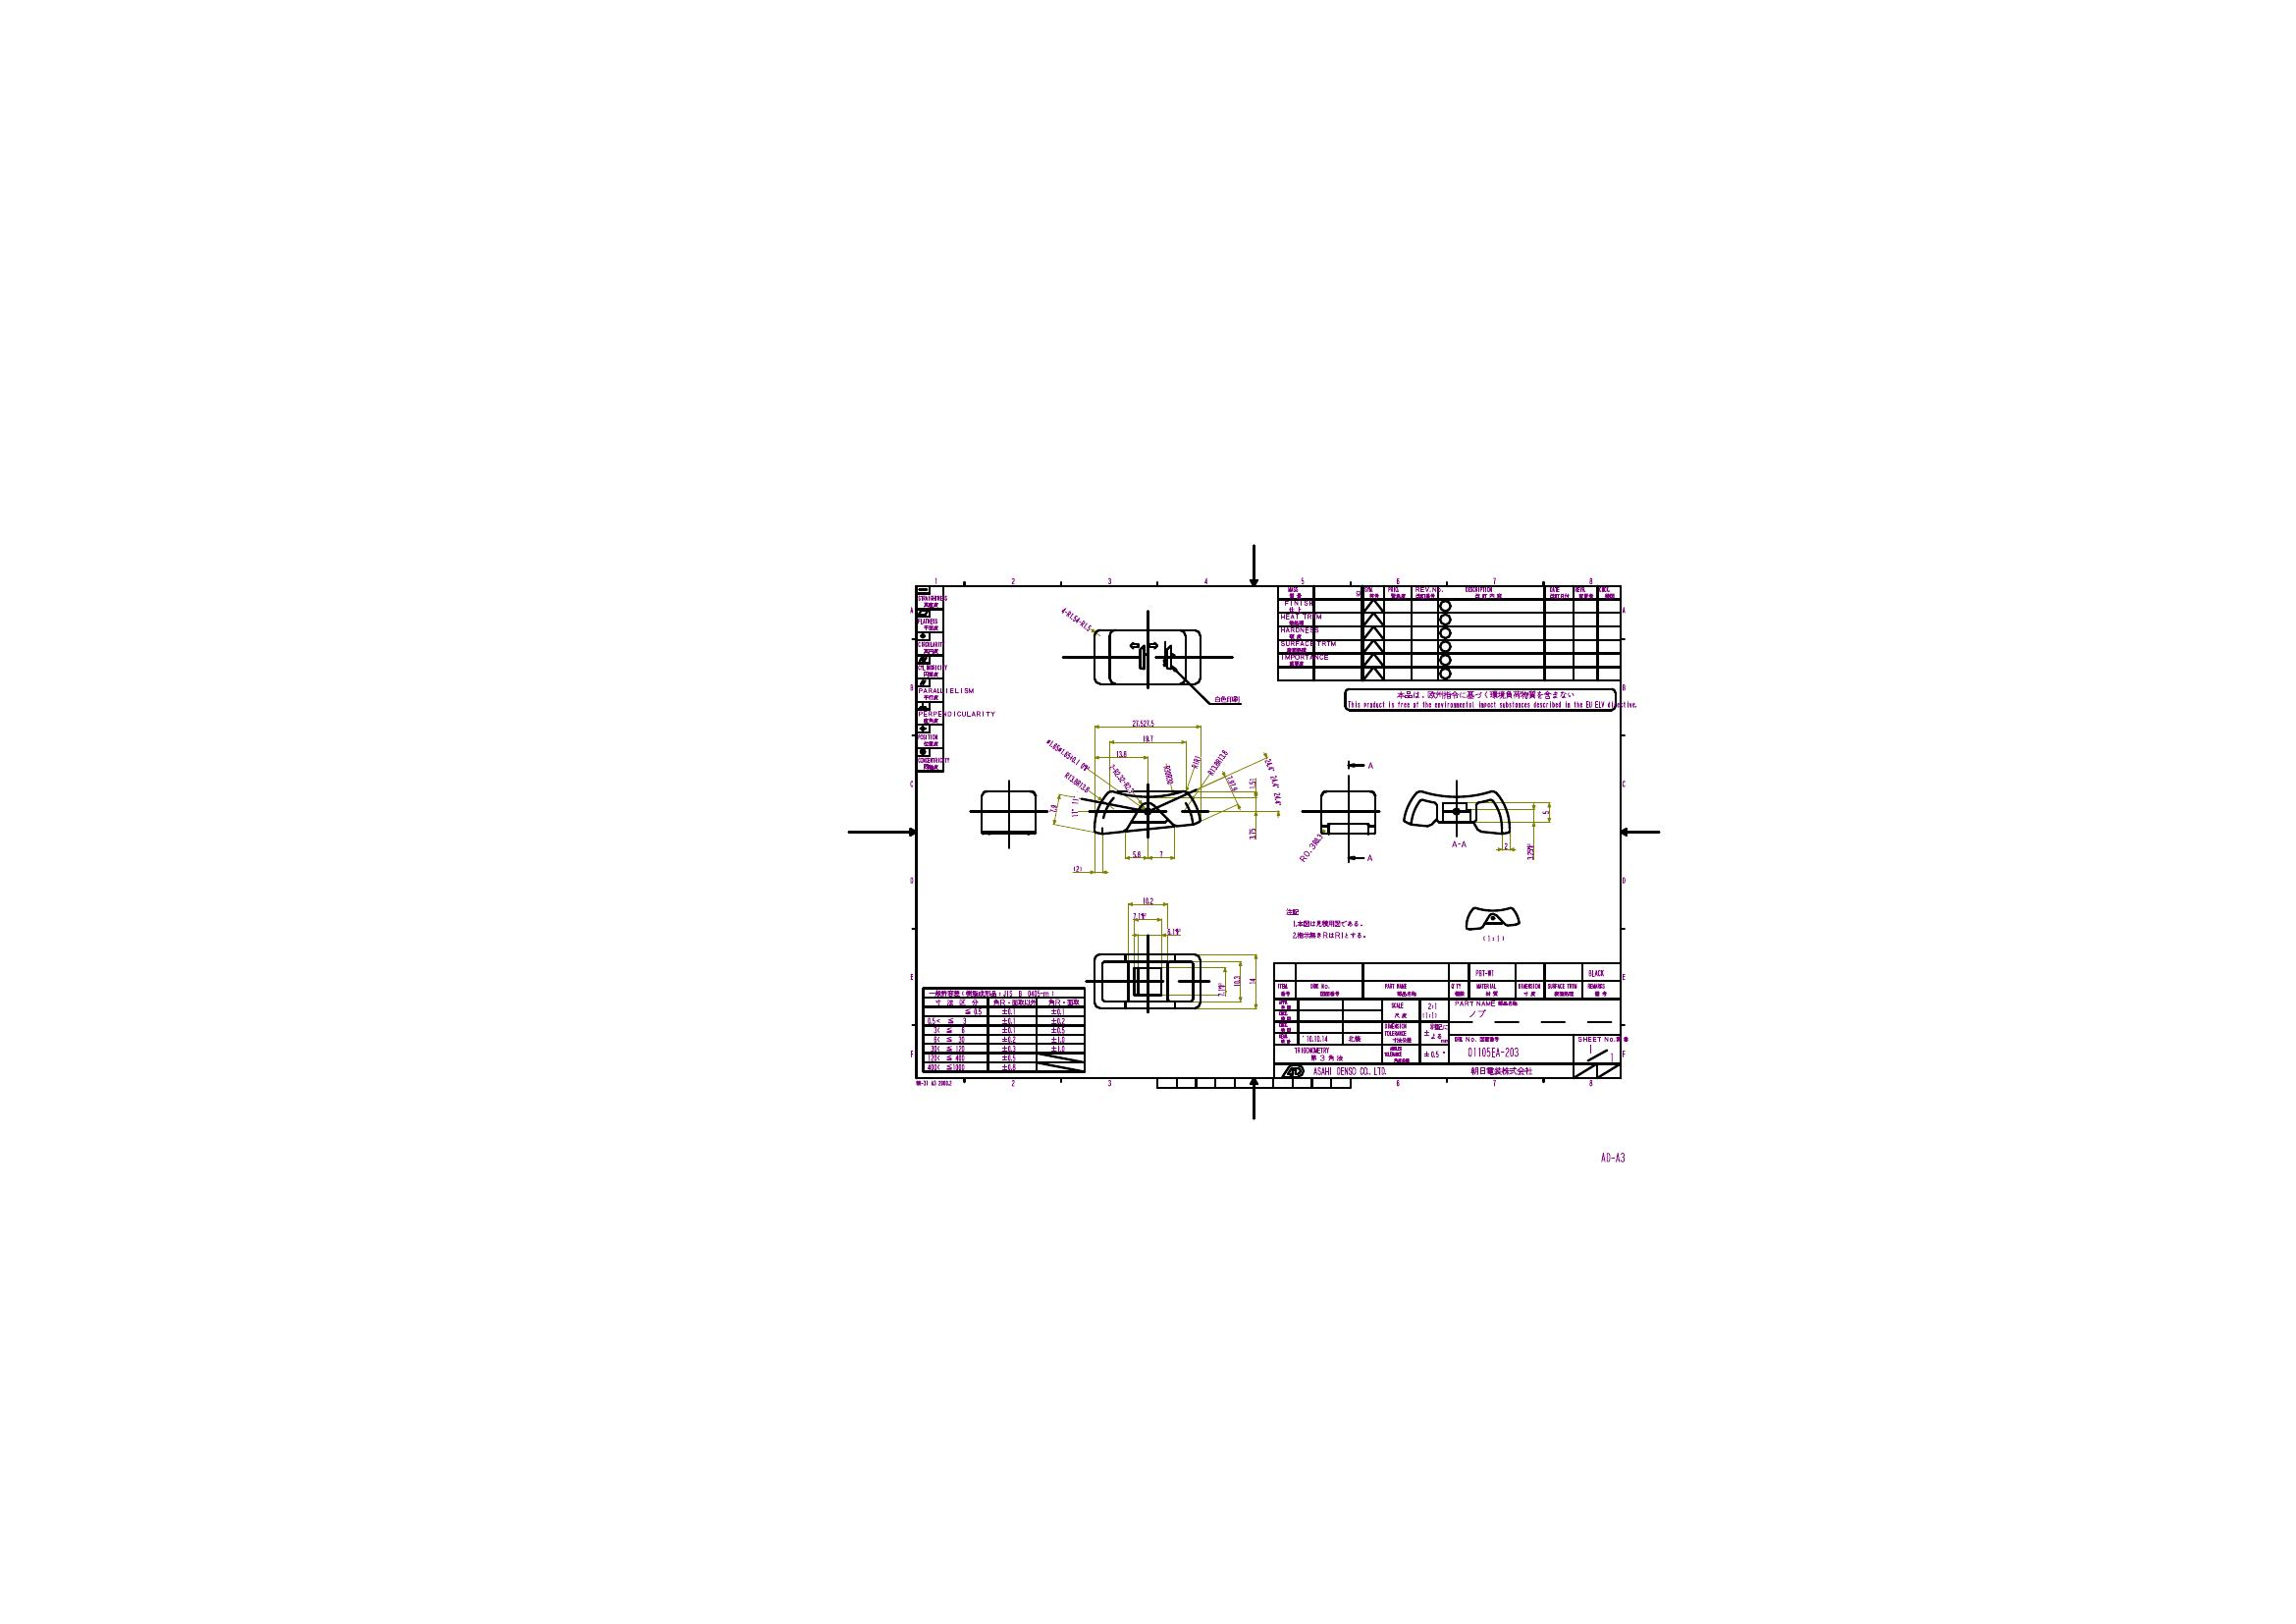anntotation_text: (1344, 685, 1614, 710), (1284, 905, 1367, 940), (1599, 1149, 1627, 1162), (1214, 692, 1240, 701), (1481, 933, 1507, 942), (915, 1081, 952, 1086), (1449, 840, 1467, 847), (1365, 852, 1374, 861), (1367, 759, 1374, 768)
dimension_text: (1268, 756, 1279, 807), (1116, 759, 1124, 796), (1058, 617, 1098, 624), (1307, 831, 1316, 863), (1042, 752, 1093, 758), (1061, 777, 1091, 786), (1214, 749, 1223, 777), (1163, 763, 1172, 784), (1130, 719, 1154, 726), (1140, 895, 1156, 903), (1131, 910, 1147, 919), (1217, 981, 1226, 997), (1114, 749, 1130, 758), (1527, 842, 1534, 859), (1049, 801, 1058, 816), (1247, 826, 1256, 840), (1231, 974, 1240, 988), (1165, 926, 1180, 933), (1142, 733, 1154, 742), (1193, 754, 1200, 768), (1131, 849, 1142, 858), (1070, 807, 1079, 817), (1249, 777, 1256, 789), (1230, 775, 1235, 791), (1072, 865, 1082, 872), (1158, 851, 1166, 858), (1072, 796, 1079, 805), (1247, 977, 1256, 984), (1541, 808, 1549, 816), (1504, 842, 1507, 849)
object: (1093, 629, 1202, 685), (1093, 953, 1200, 1009), (1094, 789, 1203, 835), (1404, 791, 1509, 835), (1319, 789, 1375, 833), (980, 789, 1036, 833), (1465, 907, 1521, 930)
title_block: (1274, 961, 1621, 1077), (1277, 587, 1620, 680), (921, 988, 1086, 1070), (915, 584, 942, 773)
